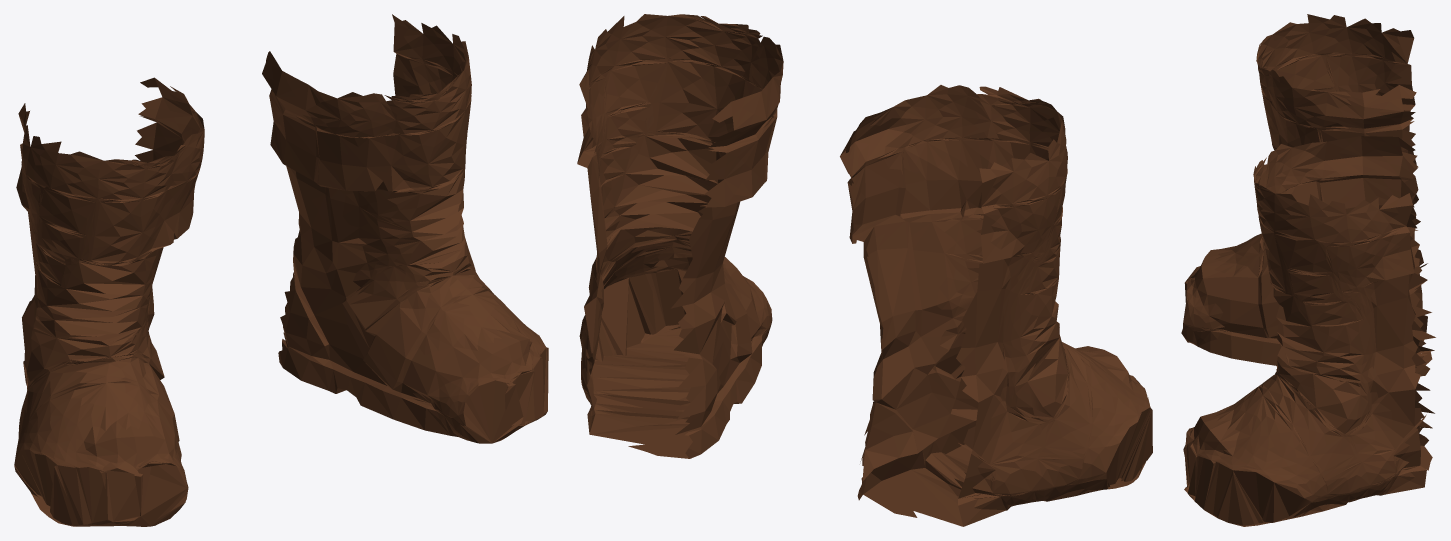
Rendered from kleidung.fuss.stiefel.v003.glb.
3 renders of one model, left to right at view 1: azimuth 30°, elevation 25°; view 2: azimuth 150°, elevation 25°; view 3: azimuth 270°, elevation 25°, orthographic. The views are drawn at different scales.
Visible parts, largest first — view 1: kleidung.fuss.stiefel.v003.001; view 2: kleidung.fuss.stiefel.v003.001; view 3: kleidung.fuss.stiefel.v003.001.
Part boxes in pixels (<box>): kleidung.fuss.stiefel.v003.001: <box>14,14,548,526</box>; kleidung.fuss.stiefel.v003.001: <box>577,14,1152,526</box>; kleidung.fuss.stiefel.v003.001: <box>1181,14,1435,526</box>.
Bounding box in the file's own units: 0.6796 × 0.4482 × 0.3268.
